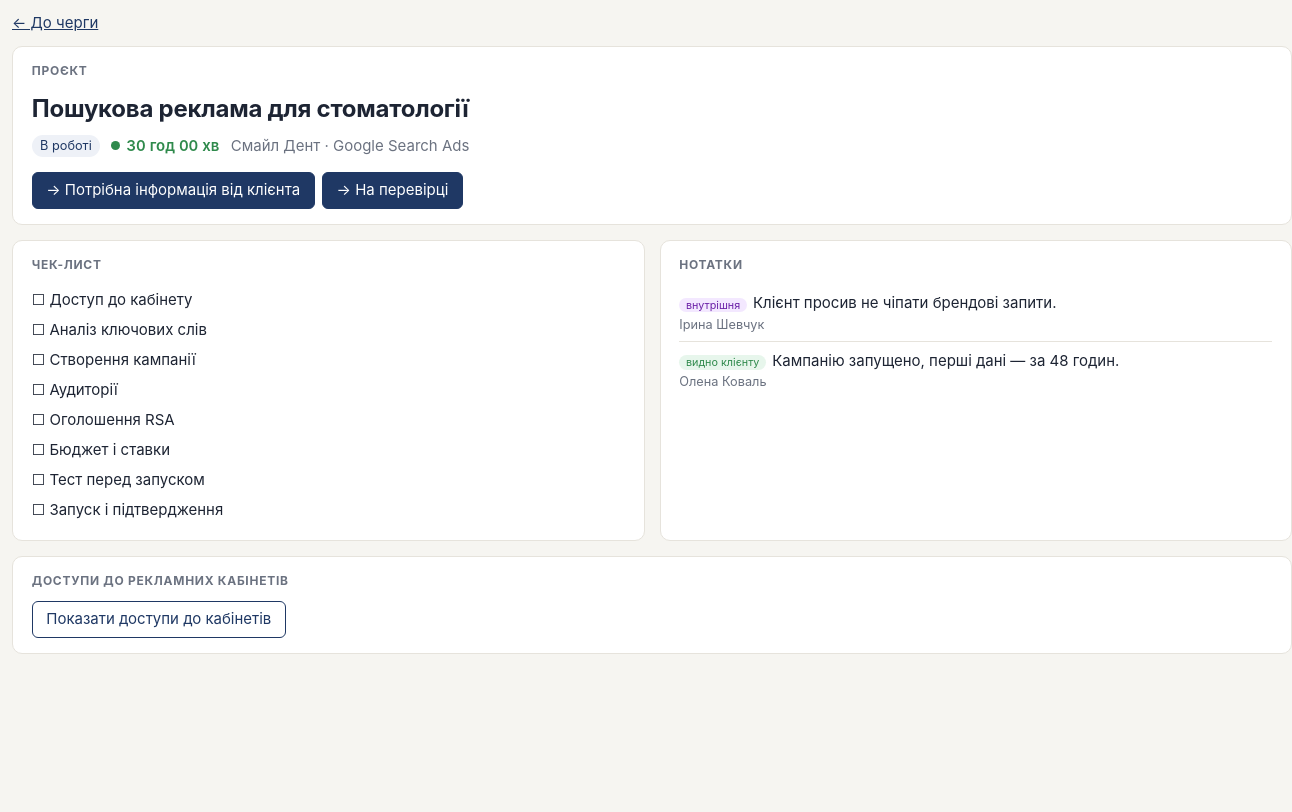
it: Б-6ф: конфлікт версій показується, дія не повторюється › на 409 — банер із поточним статусом і рівно один запит мутації
Step 1. Click the button "→ На перевірці" → (392, 190), box 322,172 -> 463,208
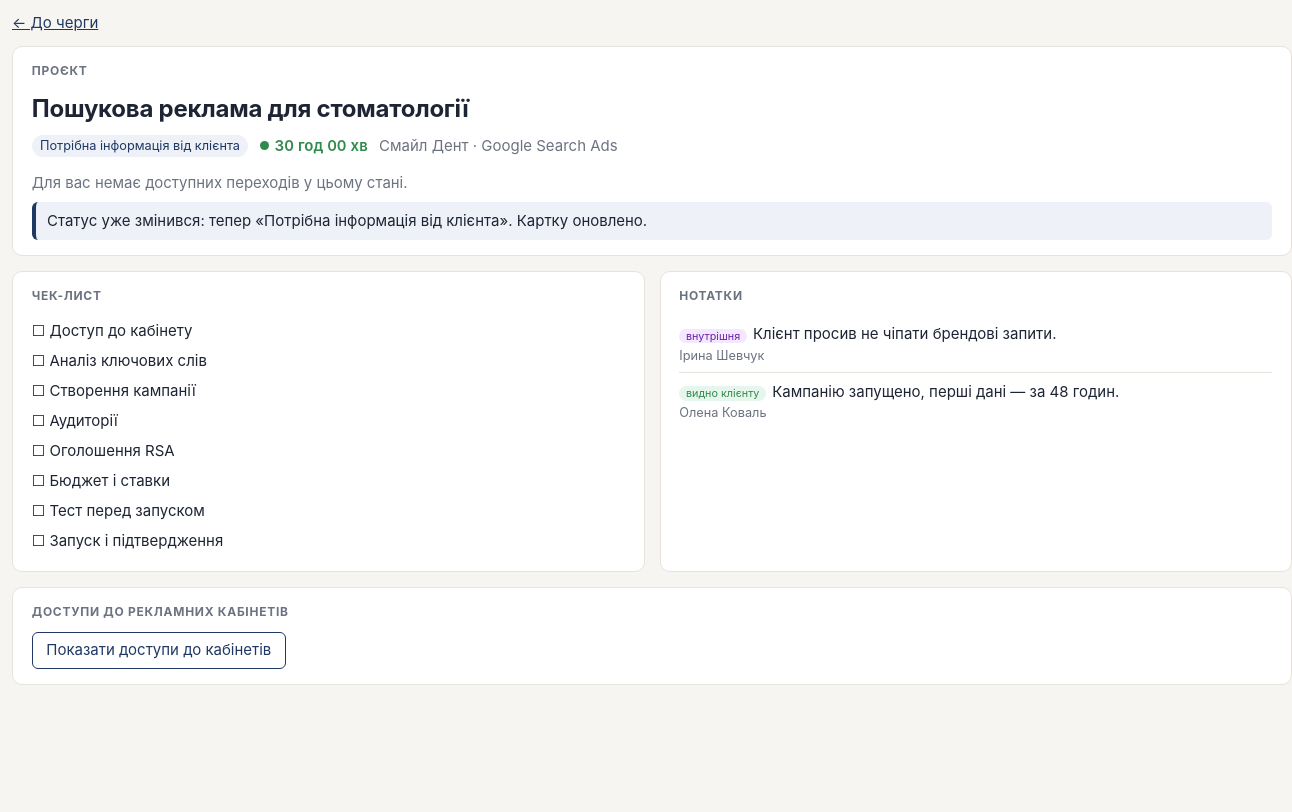
Result: the text "Статус уже змінився: тепер «Потрібна інформація від клієнта». Картку оновлено." is shown at 32,202 -> 1272,240
